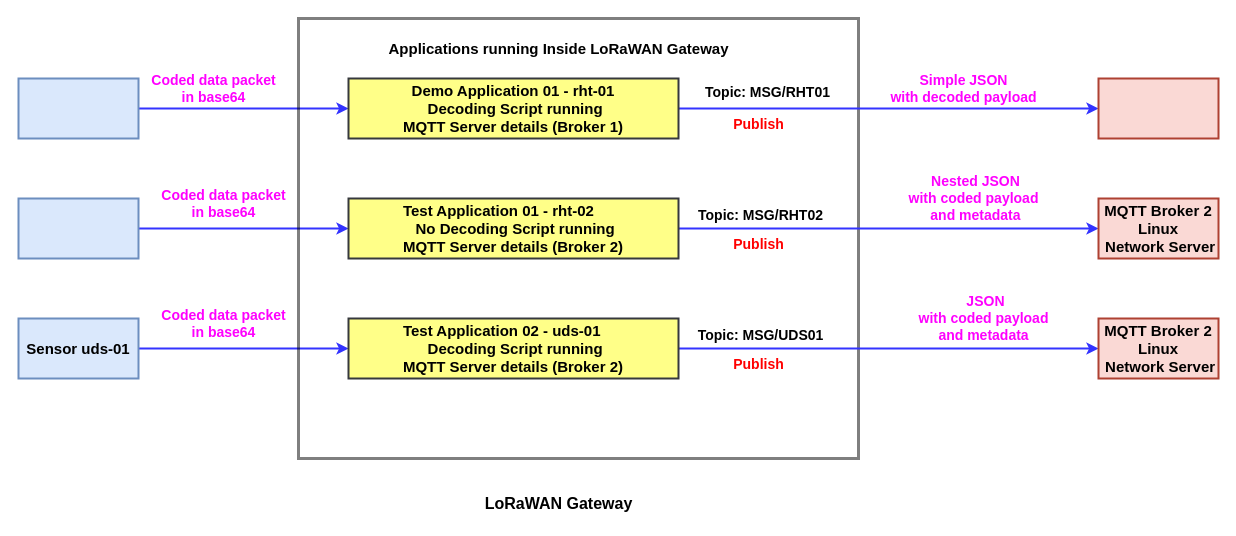
This 1236x536 diagram has some shape labels left out. Here are the shapes that lost their labels. From the top down, the box of each, then its label:
(17, 77, 139, 139): Sensor rht-01
(1097, 77, 1219, 139): MQTT Broker 1 Windows Network Server
(17, 197, 139, 259): Sensor rht-02
